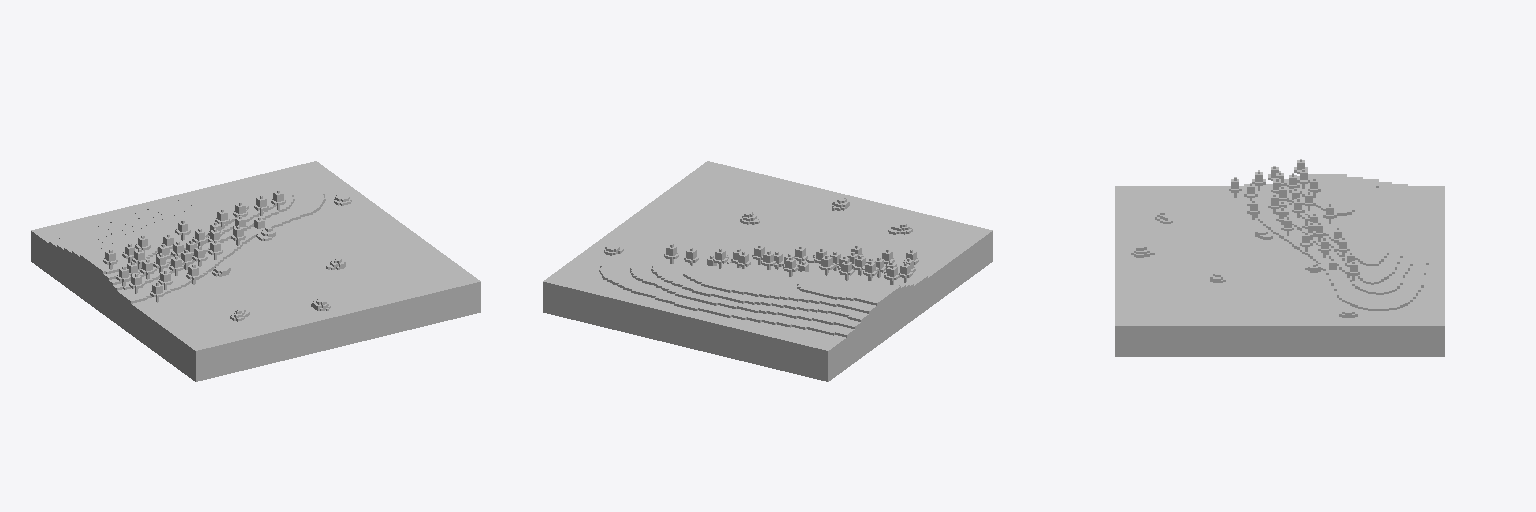
Rendered from Map (25).obj.
3 views of the same model, side by side, from view 1: azimuth 30°, elevation 25°; view 2: azimuth 150°, elevation 25°; view 3: azimuth 270°, elevation 25° (orthographic).
Visible parts, largest first — view 1: ALL MAP!!!!!!!!!!!-22; view 2: ALL MAP!!!!!!!!!!!-22; view 3: ALL MAP!!!!!!!!!!!-22.
Boxes of the visible parts, box(x1,y1,x2,y2) form: ALL MAP!!!!!!!!!!!-22: box(31, 161, 480, 381); ALL MAP!!!!!!!!!!!-22: box(543, 161, 992, 381); ALL MAP!!!!!!!!!!!-22: box(1115, 159, 1444, 356).
Bounding box in the file's own units: 125 × 26 × 125.